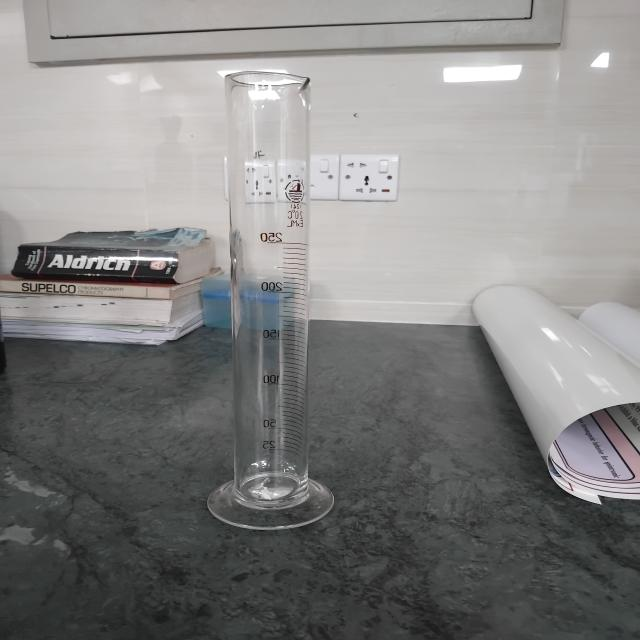Measuring_Cylinder: (142, 39, 435, 566)
